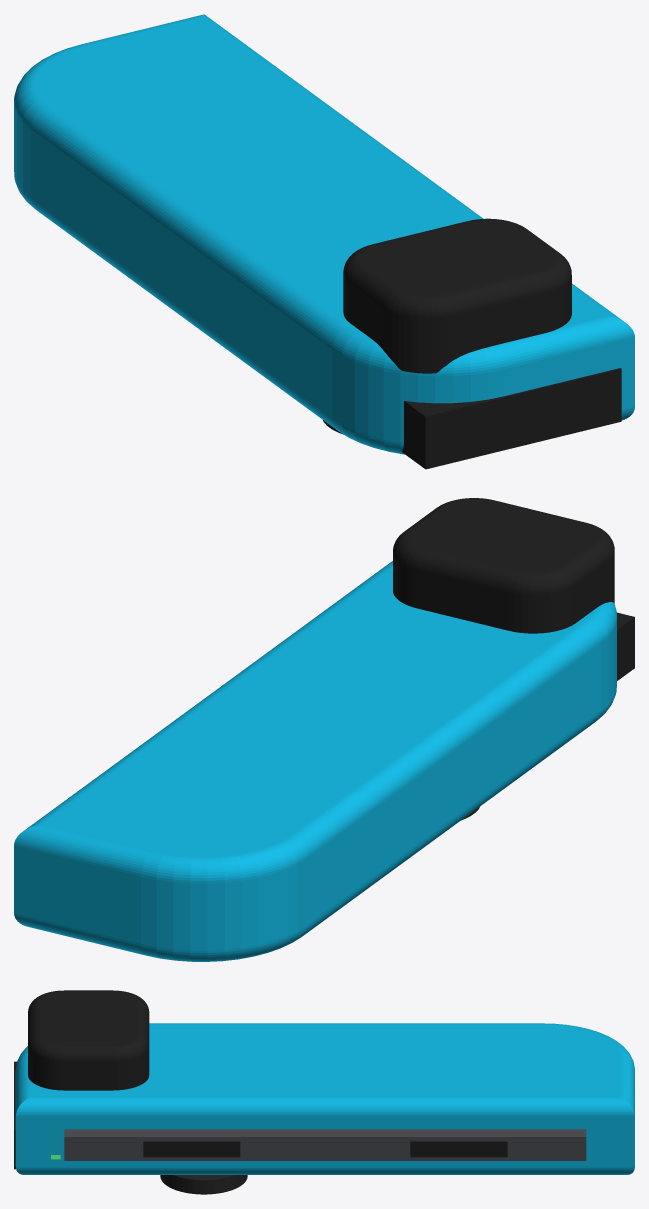
3 renders of one model, top to bottom at view 1: azimuth 30°, elevation 25°; view 2: azimuth 150°, elevation 25°; view 3: azimuth 270°, elevation 25°, orthographic. The views are drawn at different scales.
Parts seen in each view (by area): view 1: g0-plastic-body, g2-plastic; view 2: g0-plastic-body, g2-plastic; view 3: g0-plastic-body, g2-plastic, g1-metal, g3-rubber.
Part boxes in pixels (bbox=[...]): g0-plastic-body: bbox=[14, 14, 634, 454]; g2-plastic: bbox=[343, 218, 621, 469]; g0-plastic-body: bbox=[14, 561, 616, 961]; g2-plastic: bbox=[393, 498, 634, 680]; g0-plastic-body: bbox=[15, 1023, 634, 1174]; g2-plastic: bbox=[14, 990, 507, 1169]; g1-metal: bbox=[64, 1129, 586, 1160]; g3-rubber: bbox=[160, 1175, 247, 1194].
Size of the model in its own units: 36.1 by 28.4 by 102.
